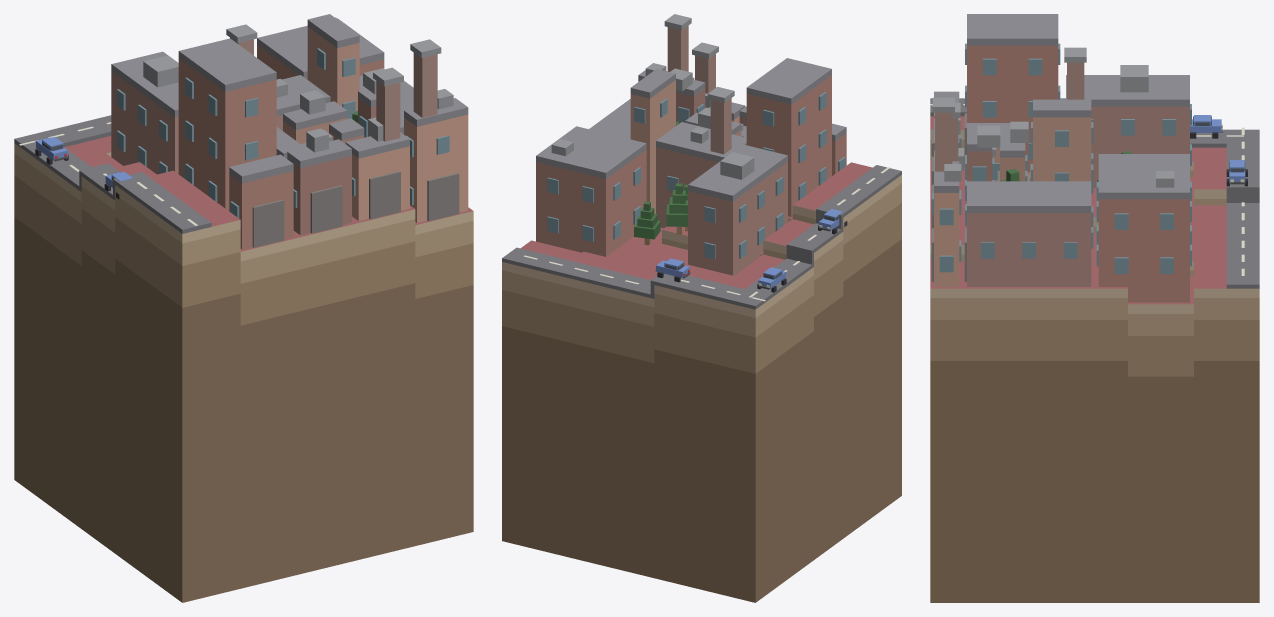
The model's file is block_25_engineered_15.glb.
3 views of the same model, side by side, from view 1: azimuth 30°, elevation 25°; view 2: azimuth 150°, elevation 25°; view 3: azimuth 270°, elevation 25° (orthographic). The views are drawn at different scales.
Parts seen in each view (by area): view 1: Patch_UpperRight_b25_ES, Factories_UpperRight_b25_ES, Roads_UpperRight_b25_ES, RCar_15_ES; view 2: Patch_UpperRight_b25_ES, Factories_UpperRight_b25_ES, Roads_UpperRight_b25_ES, FTree_2_ES, FTree_0_ES, RCar_7_ES; view 3: Patch_UpperRight_b25_ES, Factories_UpperRight_b25_ES, Roads_UpperRight_b25_ES, RCar_15_ES, RCar_7_ES.
Part boxes in pixels (box(x1,y1,x2,y2)): Patch_UpperRight_b25_ES: box(14, 136, 473, 602); Factories_UpperRight_b25_ES: box(111, 14, 468, 249); Roads_UpperRight_b25_ES: box(14, 115, 211, 233); RCar_15_ES: box(35, 137, 68, 164); Patch_UpperRight_b25_ES: box(502, 162, 901, 602); Factories_UpperRight_b25_ES: box(536, 14, 846, 275); Roads_UpperRight_b25_ES: box(502, 165, 901, 309); FTree_2_ES: box(666, 183, 687, 234); FTree_0_ES: box(634, 201, 660, 245); RCar_7_ES: box(655, 258, 690, 282); Patch_UpperRight_b25_ES: box(930, 116, 1259, 602); Factories_UpperRight_b25_ES: box(931, 14, 1191, 302); Roads_UpperRight_b25_ES: box(930, 98, 1259, 288); RCar_15_ES: box(1190, 115, 1222, 138); RCar_7_ES: box(1226, 160, 1247, 186).
Size of the model in its own units: 9.6 by 15.31 by 9.5.
